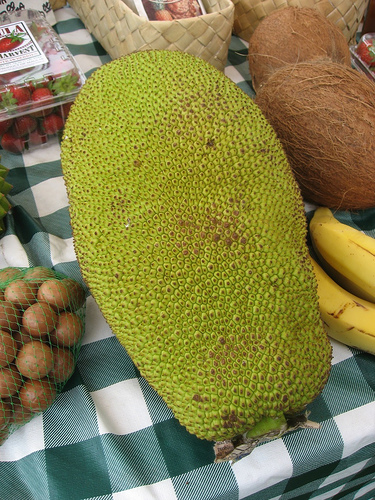jackfruit: (53, 45, 341, 467)
